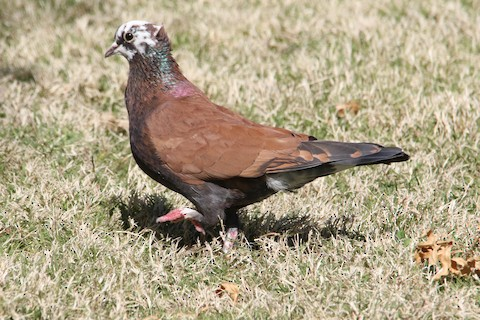pigeon: (101, 16, 416, 255)
